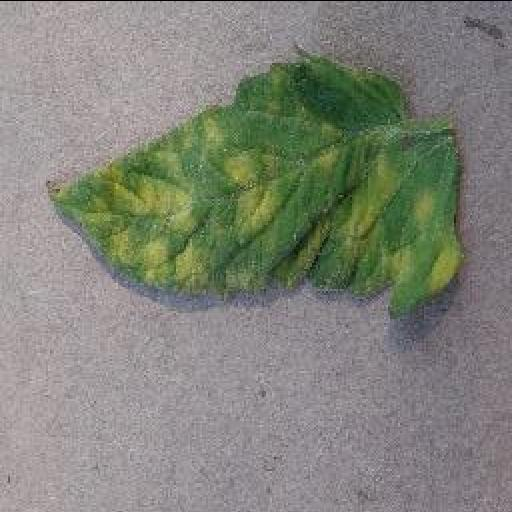disease_tomato: (44, 44, 464, 316)
